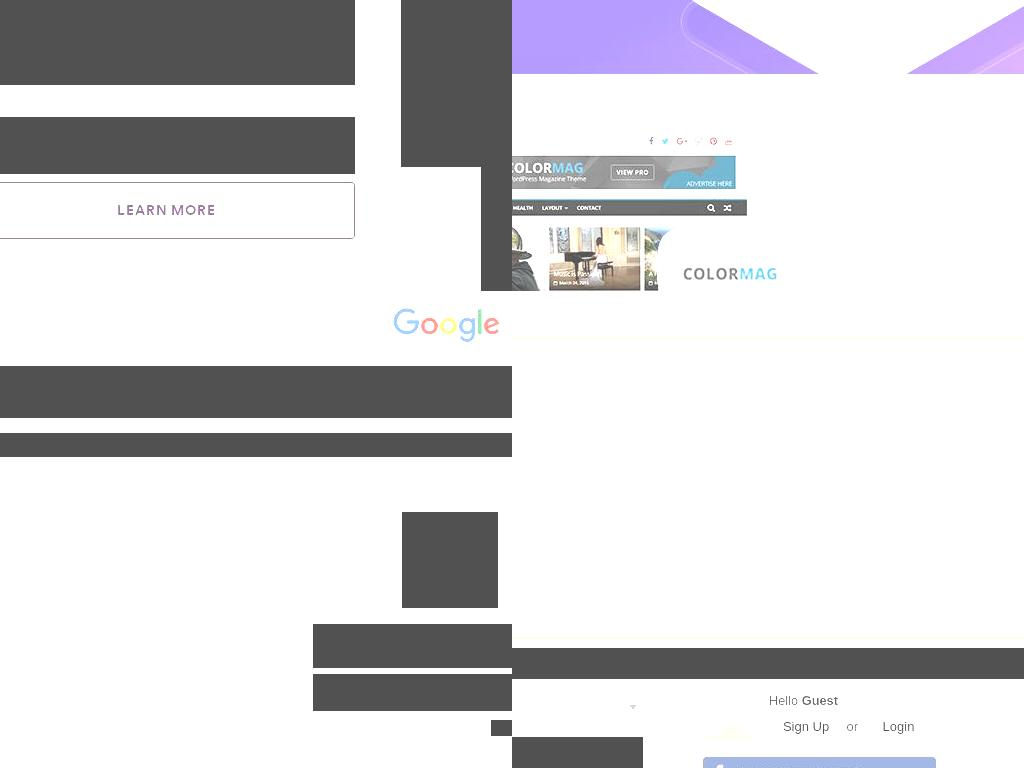button: (512, 94, 838, 291), (0, 117, 355, 174), (0, 182, 355, 239), (861, 713, 936, 742), (769, 713, 843, 742), (491, 720, 512, 736)
field: (313, 624, 512, 668), (313, 674, 512, 711)
heading: (0, 366, 512, 418), (0, 433, 512, 457)
image: (512, 94, 838, 291), (512, 169, 1024, 291), (681, 0, 1024, 139), (402, 512, 498, 608), (392, 308, 508, 346), (706, 692, 756, 742)
text: (0, 0, 355, 85), (512, 648, 1024, 679), (512, 691, 643, 724), (512, 737, 643, 768), (703, 757, 936, 768), (801, 693, 838, 708), (769, 693, 802, 708), (843, 719, 862, 734)
